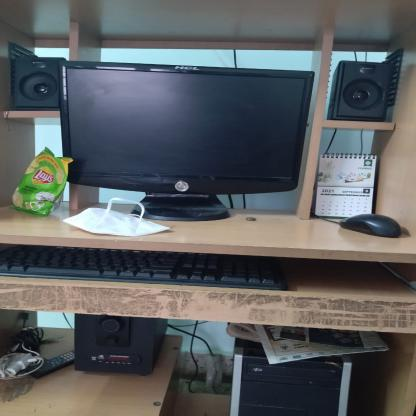cream_and_onion: (9, 146, 72, 217)
